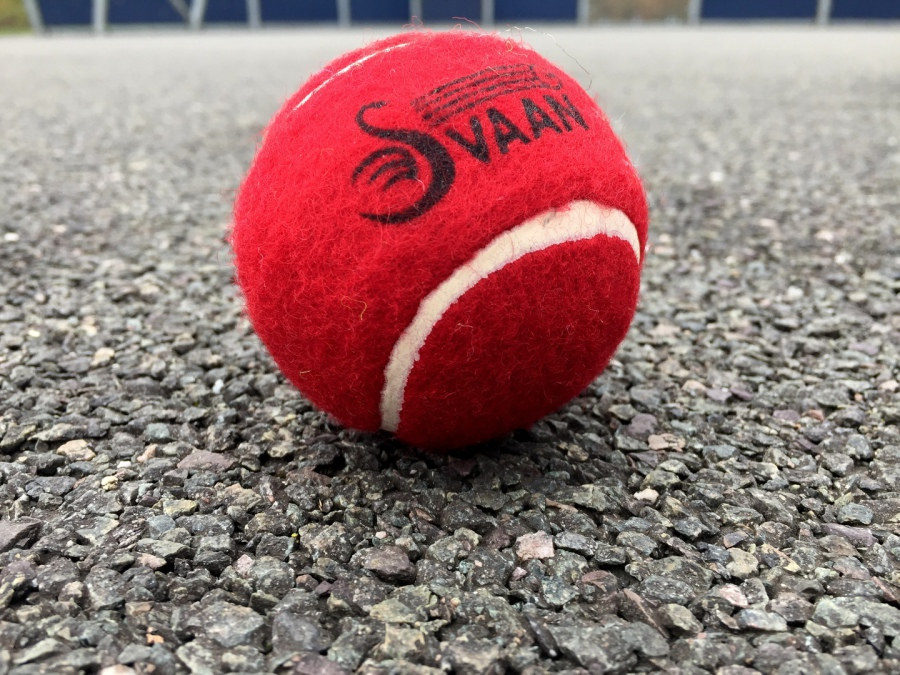red ball: (231, 29, 652, 453)
